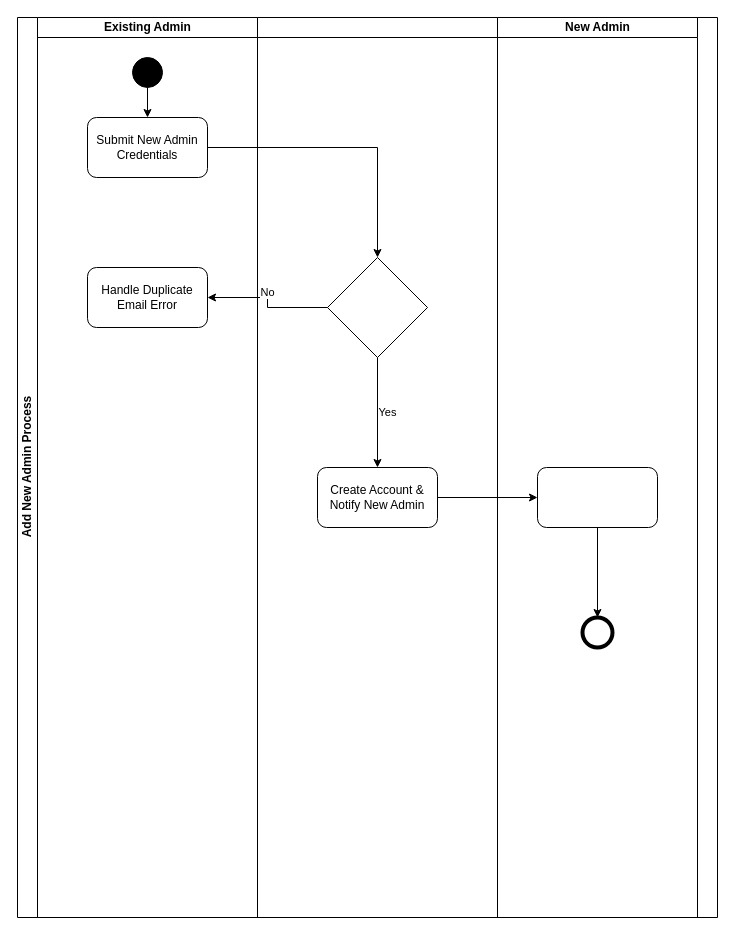
The diagram is 735 pixels wide and 935 high, and some of its shapes have lost their labels. Here are the shapes that lost their labels. From the top down, the box of each, then its label:
(326, 256, 428, 358): Email Unique?
(256, 16, 498, 918): Grand Azure System
(536, 466, 658, 528): Log In with Temporary Pass
